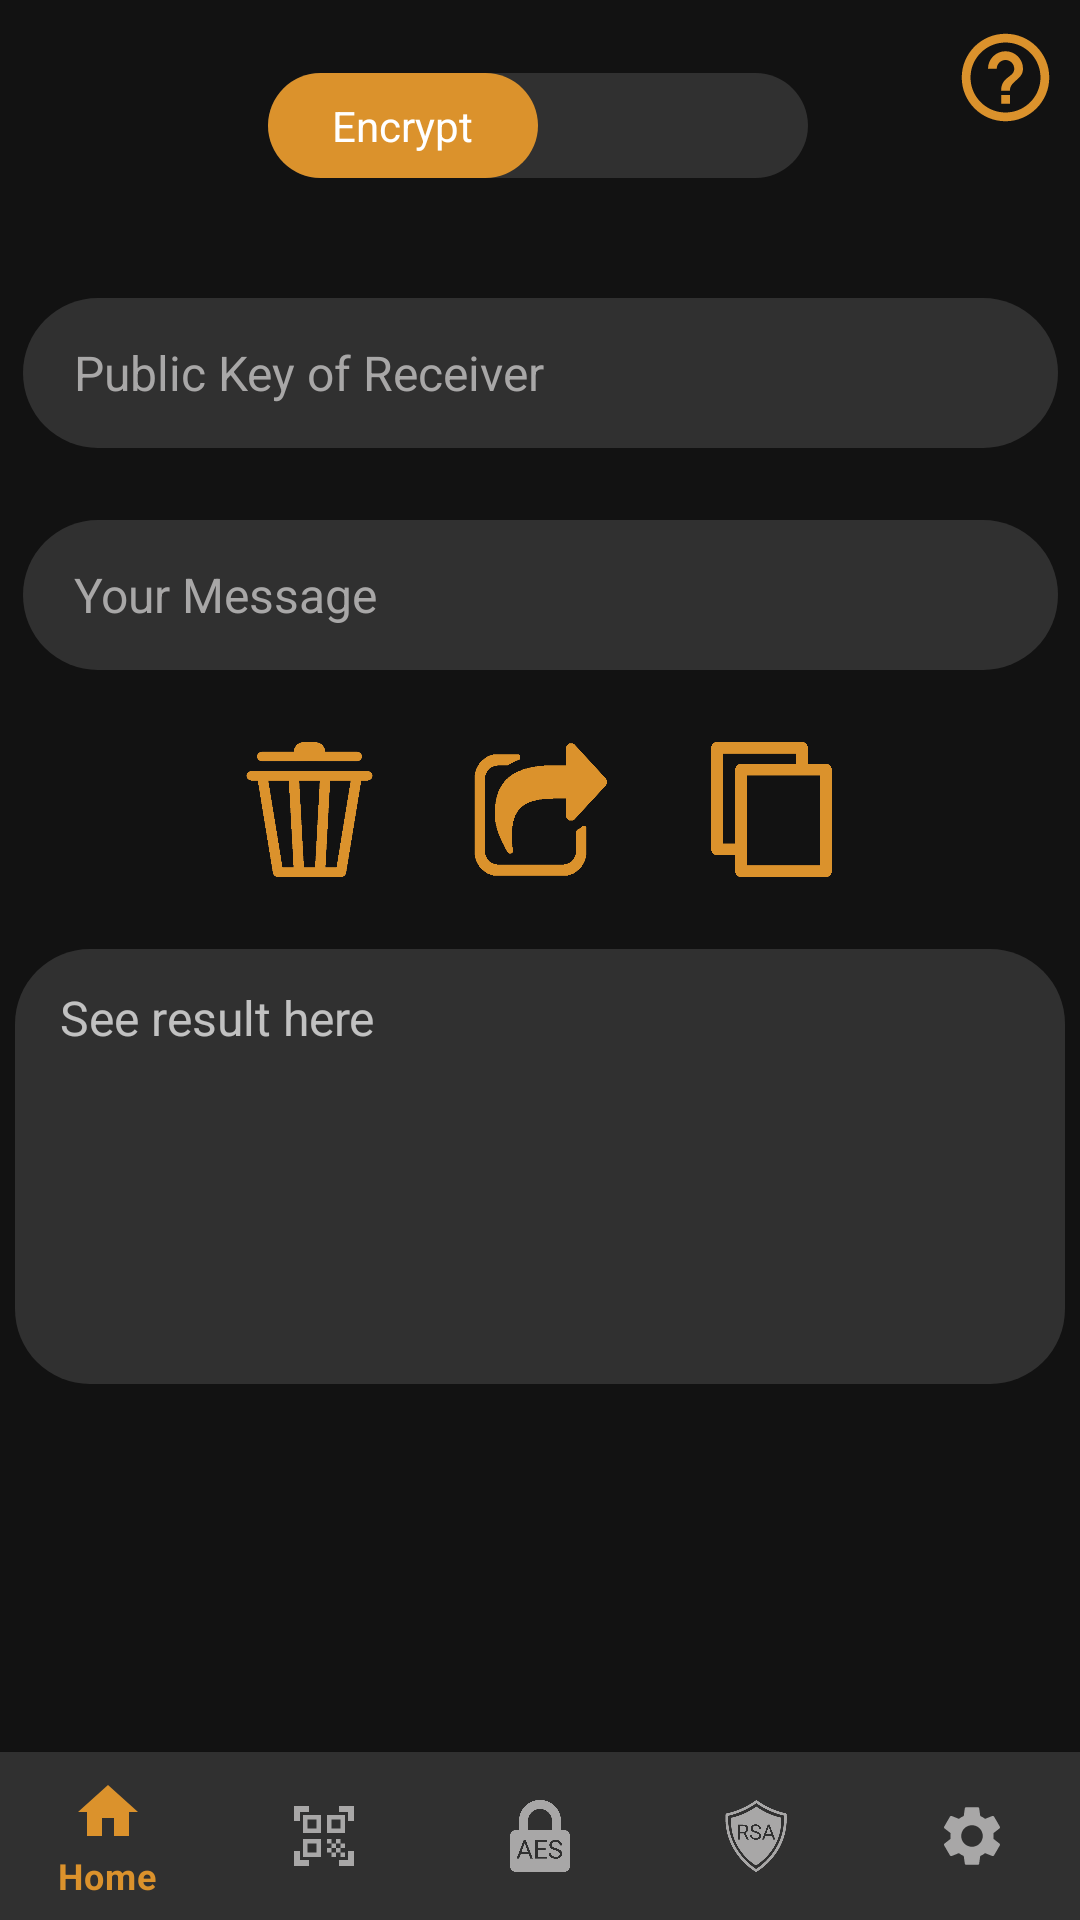

Icon click points for this 1080w x 1920h phone screenshot, format (x=x, y=y):
help menu: (x=1005, y=77)
